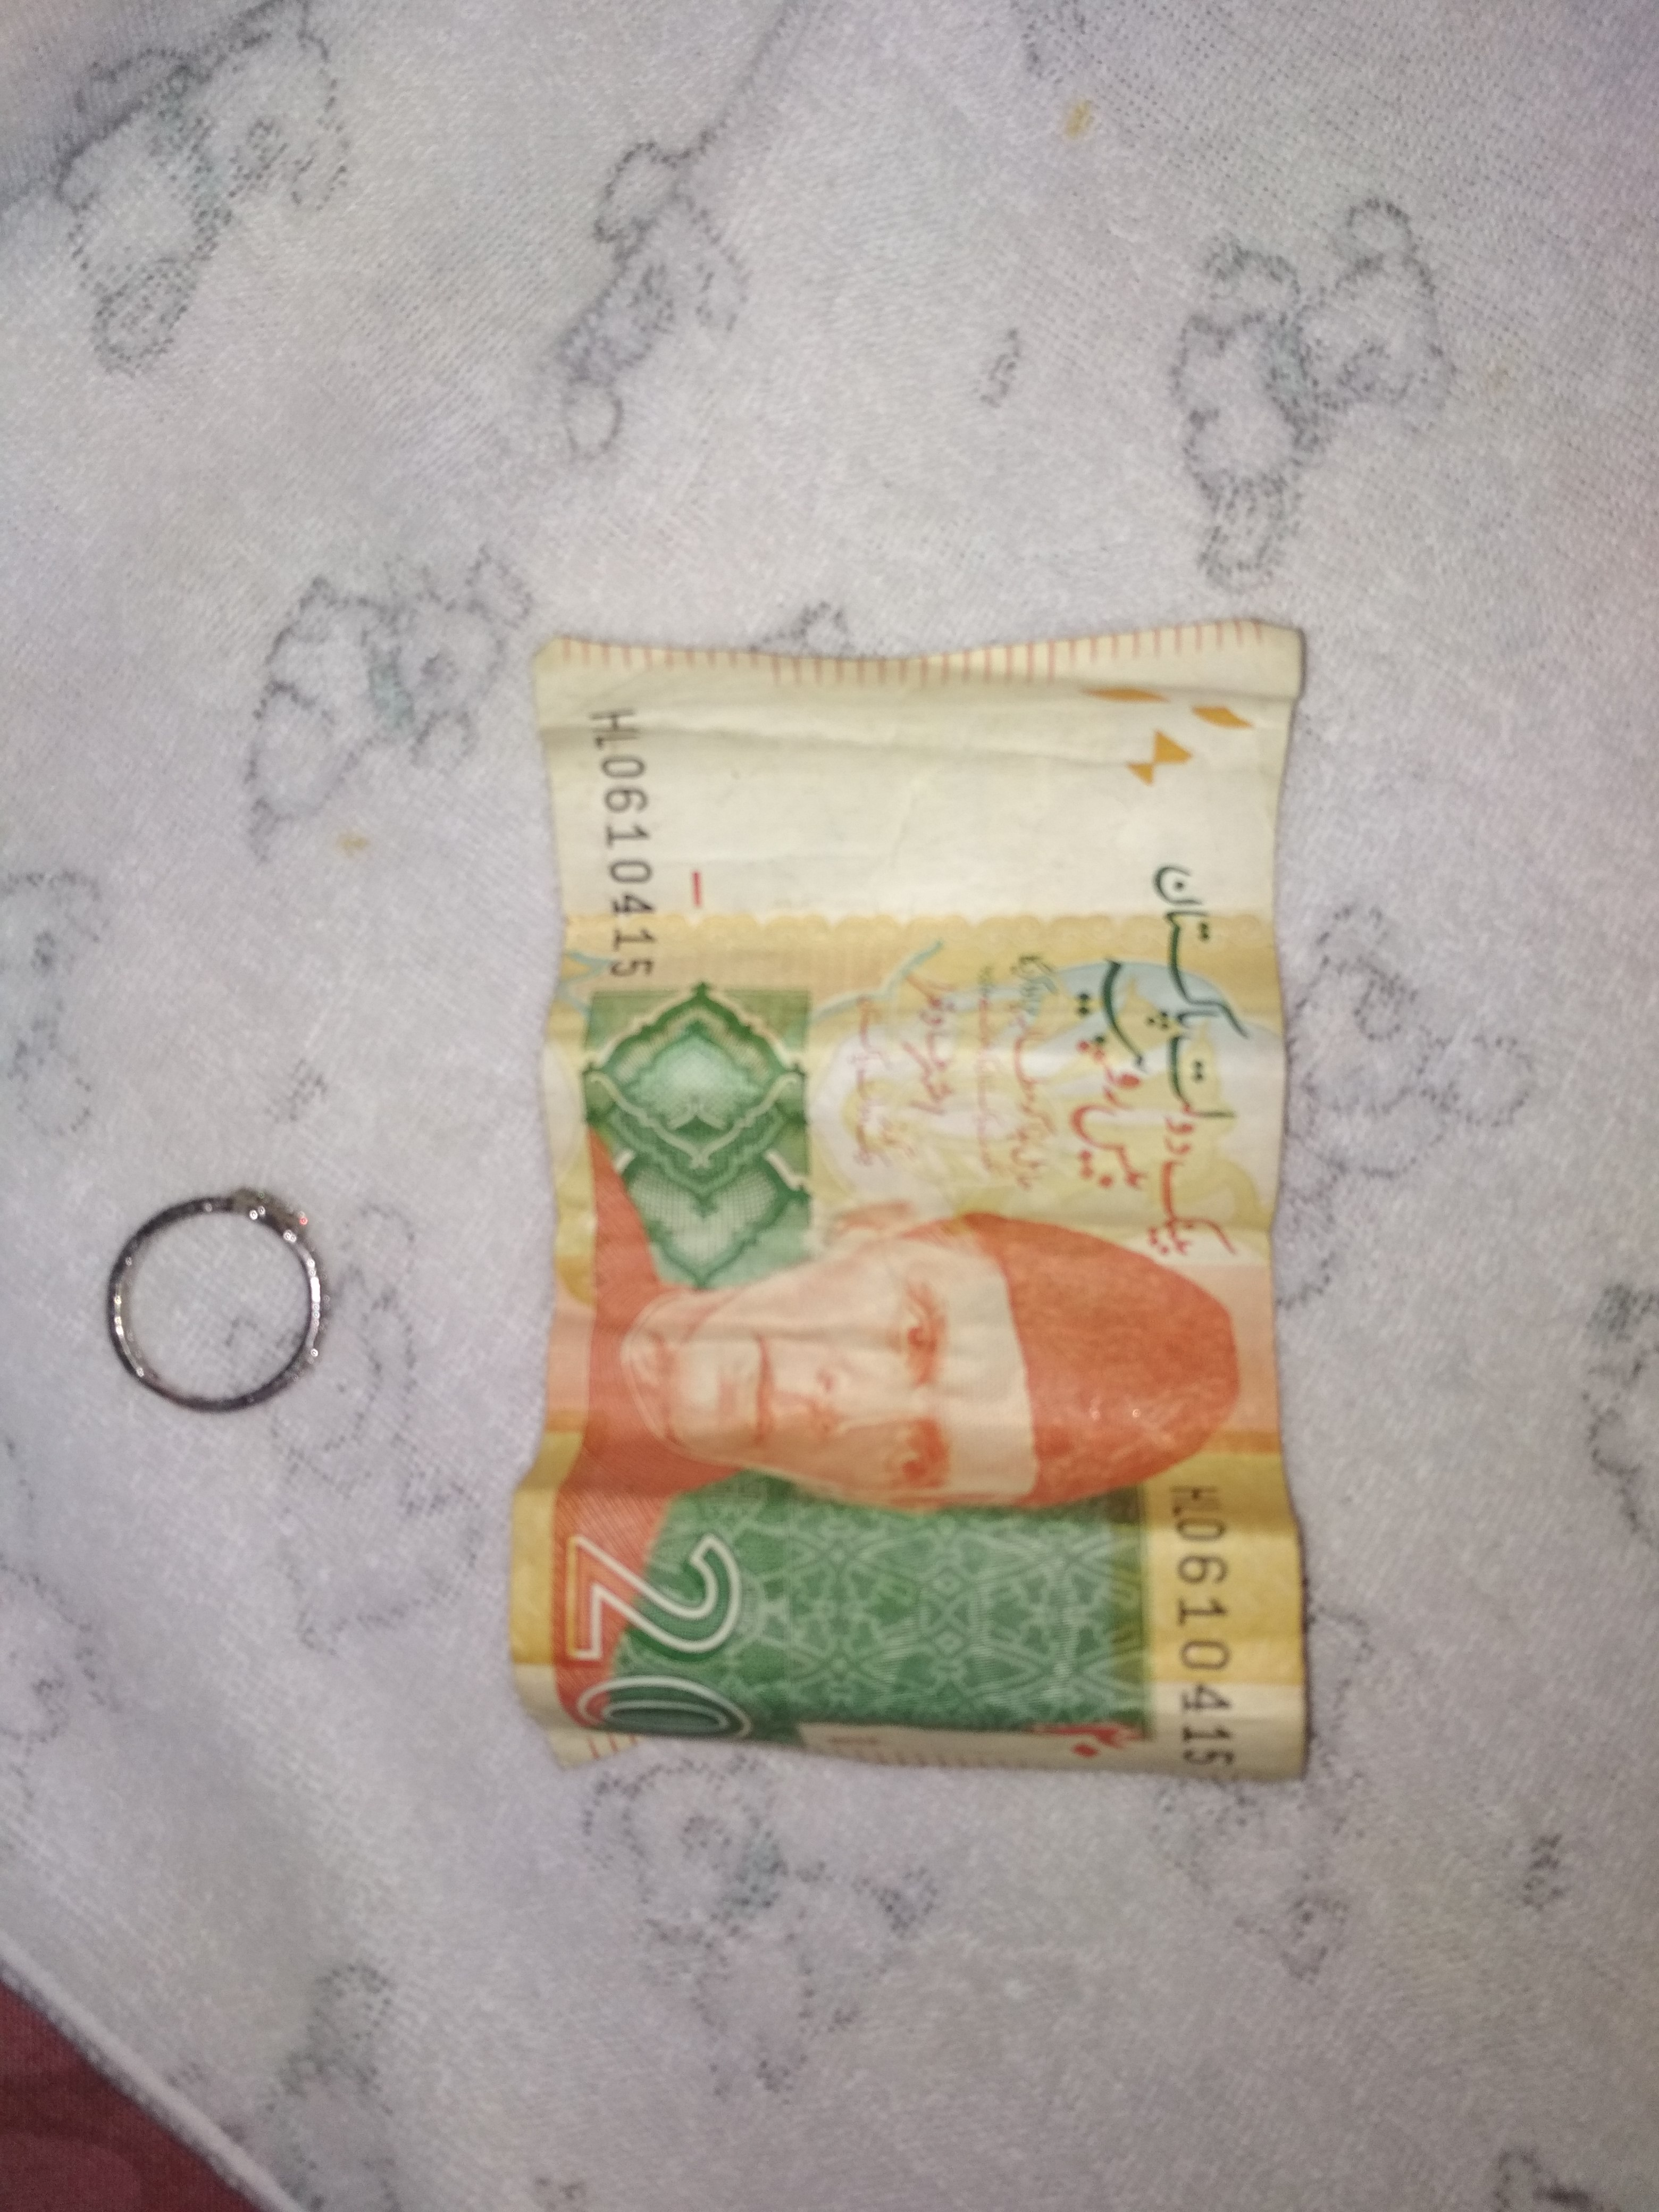20 rupee: (411, 498, 1356, 1803)
